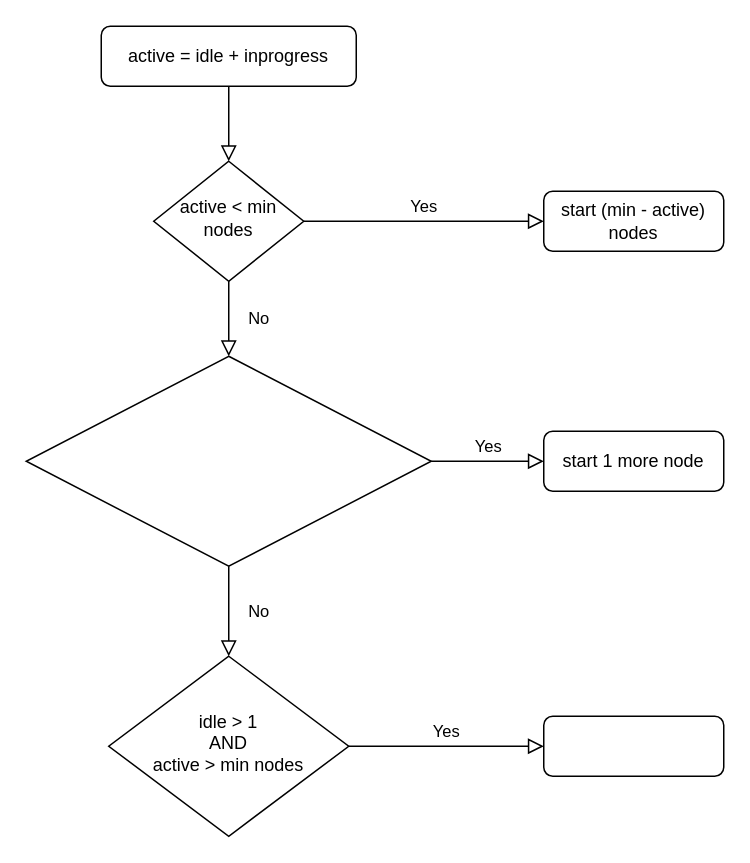
This 750x863 diagram has some shape labels left out. Each missing label, with the centre of its shape:
active == inprogress AND active+1 <= max allowed nodes: (x=228, y=460)
kill (idle - 1) nodes: (x=633, y=745)
